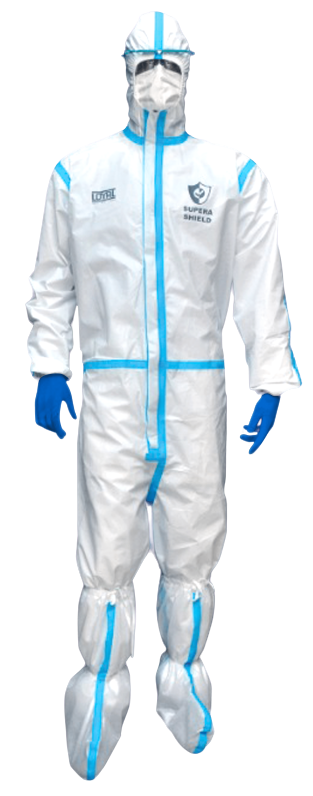Coverall: (26, 9, 300, 705)
Gloves: (31, 371, 78, 442), (236, 387, 281, 453)
with_mask: (132, 65, 185, 113)
